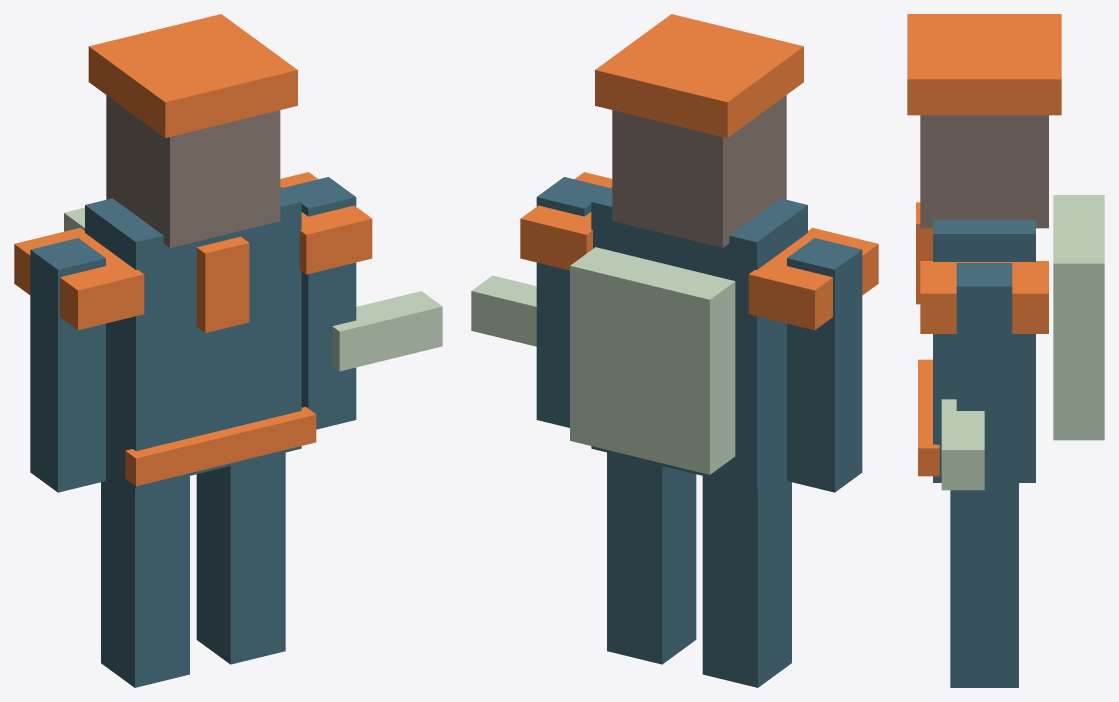
File: 06_sarai_cinderholt_ranger_from_arrival.glb
3 views of the same model, side by side, from view 1: azimuth 30°, elevation 25°; view 2: azimuth 150°, elevation 25°; view 3: azimuth 270°, elevation 25° (orthographic).
Parts seen in each view (by area): view 1: Sarai Cinderholt, Ranger from Arrival; view 2: Sarai Cinderholt, Ranger from Arrival; view 3: Sarai Cinderholt, Ranger from Arrival.
Part boxes in pixels (bbox=[...]): Sarai Cinderholt, Ranger from Arrival: bbox=[14, 14, 442, 687]; Sarai Cinderholt, Ranger from Arrival: bbox=[471, 14, 878, 687]; Sarai Cinderholt, Ranger from Arrival: bbox=[907, 14, 1104, 687].
Size of the model in its own units: 1.08 by 1.64 by 0.486.
